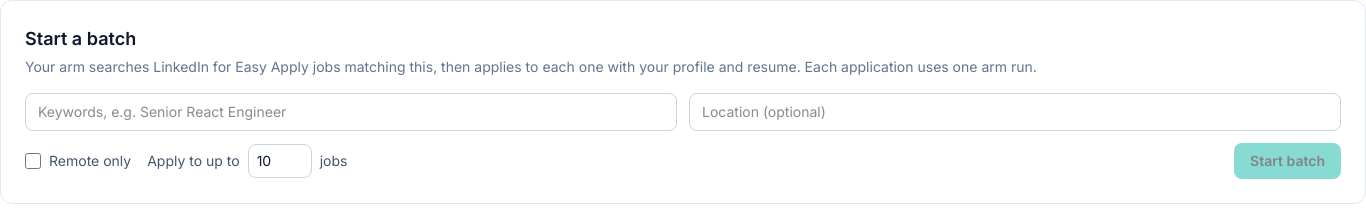
Test: starting a batch › keeps the button disabled until the keywords are usable
This screenshot has width=1366, height=221.
expect the button "Start batch" is disabled: met, box top-left (1234, 143), bottom-right (1341, 179)
Type "go" into the field named "Search keywords" at (351, 112), box top-left (25, 93), bottom-right (677, 131)
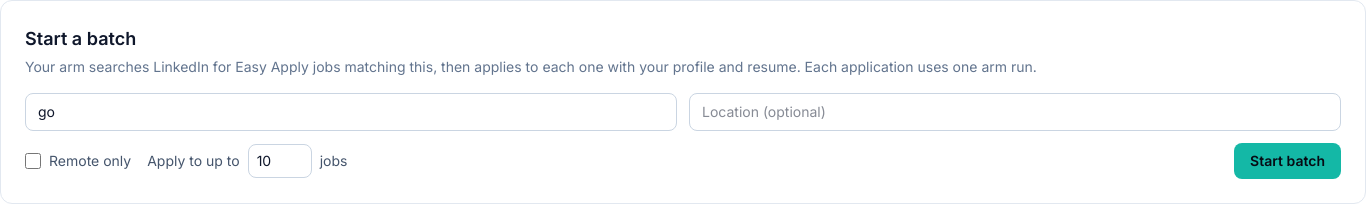
expect the button "Start batch" is enabled: met, box top-left (1234, 143), bottom-right (1341, 179)
